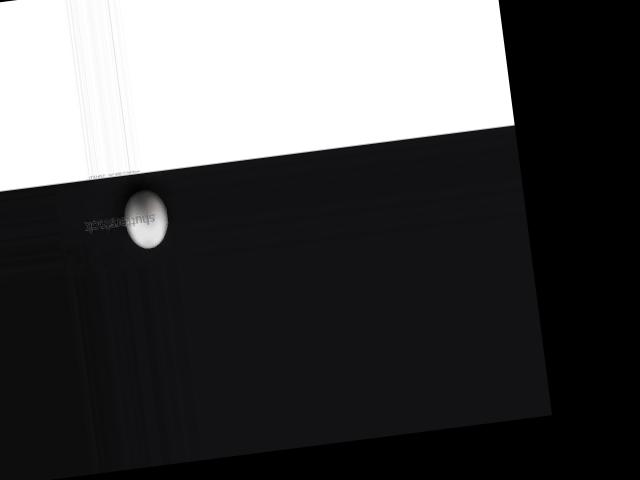egg: (121, 187, 171, 251)
